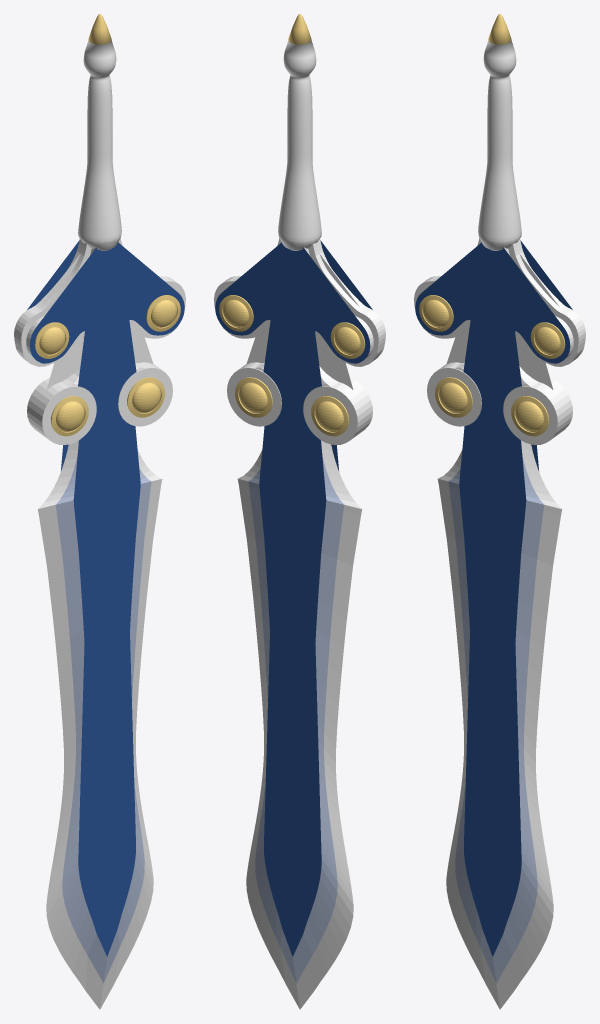
File: whiteKniteSword.fbx
The picture shows the model from 3 angles, left to right: view 1: azimuth 30°, elevation 25°; view 2: azimuth 150°, elevation 25°; view 3: azimuth 330°, elevation 25°; orthographic projection.
Visible parts, largest first — view 1: BezierCurve, BezierCurve.002, Sphere, Sphere.001; view 2: BezierCurve, BezierCurve.002, Sphere, Sphere.001; view 3: BezierCurve, BezierCurve.002, Sphere, Sphere.001.
Boxes of the visible parts, bbox=[...] form: BezierCurve: bbox=[14, 238, 185, 1009]; BezierCurve.002: bbox=[78, 14, 121, 250]; Sphere: bbox=[27, 362, 172, 444]; Sphere.001: bbox=[34, 295, 180, 358]; BezierCurve: bbox=[214, 238, 385, 1009]; BezierCurve.002: bbox=[278, 14, 321, 250]; Sphere: bbox=[227, 362, 372, 444]; Sphere.001: bbox=[219, 295, 365, 358]; BezierCurve: bbox=[414, 238, 585, 1009]; BezierCurve.002: bbox=[478, 14, 521, 250]; Sphere: bbox=[427, 362, 572, 444]; Sphere.001: bbox=[419, 295, 565, 358].
Bounding box in the file's own units: 102 × 588 × 25.52.
